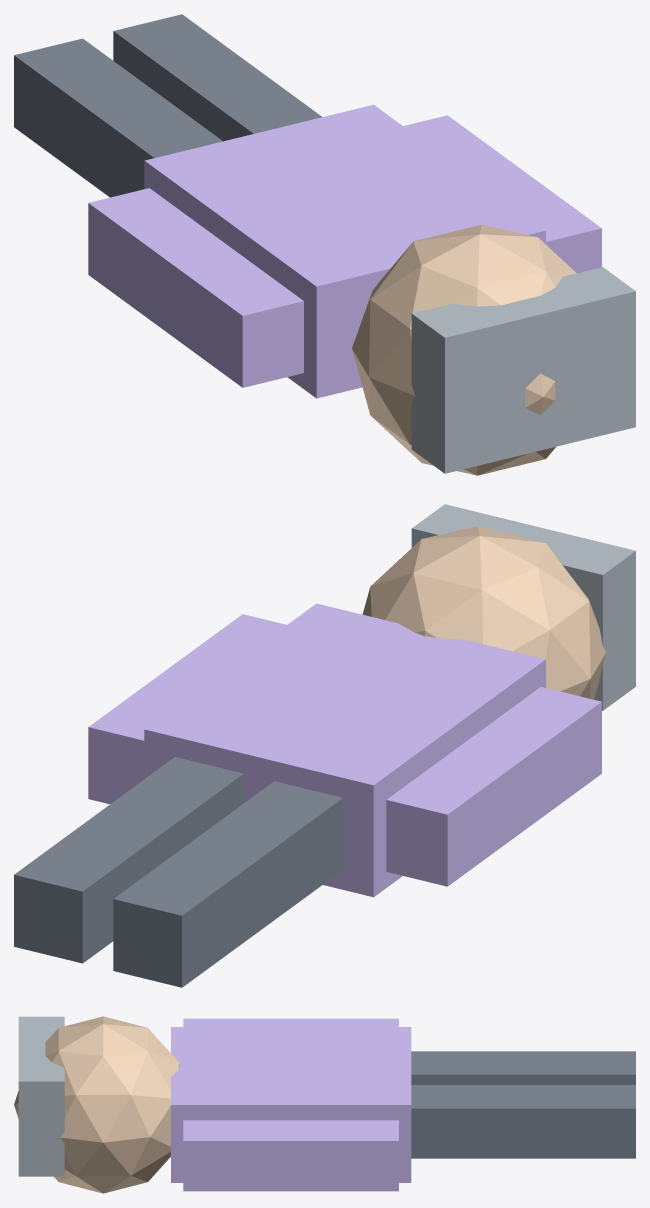
Rendered from manager.glb.
3 views of the same model, one above another, from view 1: azimuth 30°, elevation 25°; view 2: azimuth 150°, elevation 25°; view 3: azimuth 270°, elevation 25° (orthographic). The views are drawn at different scales.
Visible parts, largest first — view 1: torso, hair, arm_l, head, leg_l, leg_r, arm_r; view 2: torso, leg_l, arm_l, head, leg_r, hair, arm_r; view 3: torso, head, leg_r, arm_r, leg_l, hair, arm_l.
Part boxes in pixels (x1=…): torso: x1=144, y1=104, x2=545, y2=398; hair: x1=411, y1=267, x2=635, y2=473; arm_l: x1=88, y1=188, x2=303, y2=387; head: x1=352, y1=224, x2=576, y2=475; leg_l: x1=14, y1=38, x2=222, y2=197; leg_r: x1=113, y1=14, x2=322, y2=141; arm_r: x1=403, y1=115, x2=601, y2=273; torso: x1=144, y1=603, x2=545, y2=897; leg_l: x1=113, y1=781, x2=343, y2=987; arm_l: x1=386, y1=687, x2=601, y2=886; head: x1=362, y1=526, x2=606, y2=699; leg_r: x1=14, y1=757, x2=243, y2=963; hair: x1=411, y1=504, x2=635, y2=710; arm_r: x1=88, y1=614, x2=286, y2=804; torso: x1=171, y1=1027, x2=411, y2=1182; head: x1=14, y1=1016, x2=180, y2=1193; leg_r: x1=411, y1=1085, x2=635, y2=1158; arm_r: x1=183, y1=1120, x2=398, y2=1191; leg_l: x1=411, y1=1051, x2=635, y2=1084; hair: x1=18, y1=1016, x2=64, y2=1176; arm_l: x1=183, y1=1018, x2=398, y2=1026.
Size of the model in its own units: 0.94 by 0.58 by 2.02.
